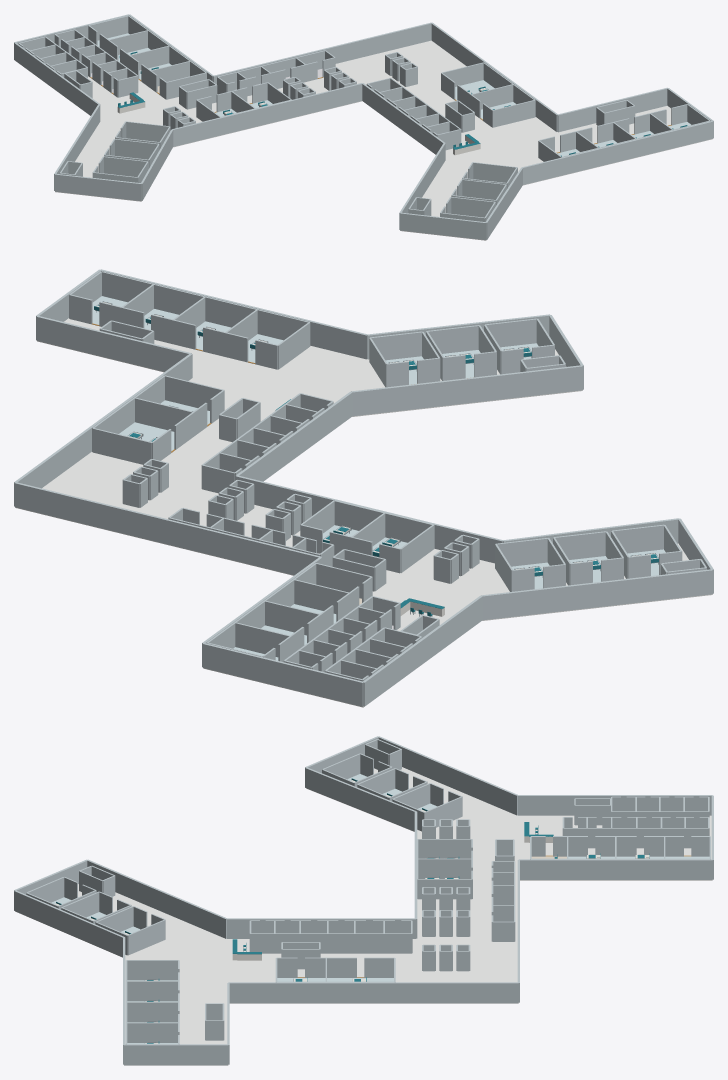
Rendered from dushu-F12.glb.
3 views of the same model, one above another, from view 1: azimuth 30°, elevation 25°; view 2: azimuth 150°, elevation 25°; view 3: azimuth 270°, elevation 25° (orthographic). The views are drawn at different scales.
Parts seen in each view (by area): view 1: Floor slab, wall-6, wall-11, wall-2, wall-8, wall-13, wall-15, wall-10, wall-4, wall-3, wall-90, wall-9 (+20 smaller); view 2: Floor slab, wall-2, wall-14, wall-9, wall-0, wall-4, wall-15, wall-10, wall-11, wall-3, wall-6, wall-84 (+26 smaller); view 3: Floor slab, wall-3, wall-1, wall-14, wall-9, wall-12, wall-7, wall-5, wall-15, wall-10, wall-77, wall-79 (+20 smaller).
Boxes of the visible parts, x1,y1,x2,y2 form: Floor slab: (55,40,712,240); wall-6: (522,121,713,184); wall-11: (172,83,362,146); wall-2: (213,22,431,84); wall-8: (400,212,486,240); wall-13: (55,173,141,200); wall-15: (14,42,99,115); wall-10: (362,83,445,154); wall-4: (557,87,667,132); wall-3: (431,22,557,131); wall-90: (492,100,535,127); wall-9: (399,143,445,229); Floor slab: (15,318,712,707); wall-2: (14,482,321,575); wall-14: (481,569,712,620); wall-9: (351,365,582,416); wall-0: (202,643,363,706); wall-4: (36,315,191,371); wall-15: (363,595,482,706); wall-10: (235,391,352,481); wall-11: (236,475,503,563); wall-3: (14,353,192,506); wall-6: (100,269,367,359); wall-84: (92,428,151,464); Floor slab: (15,767,712,1065); wall-3: (228,982,518,1003); wall-1: (518,859,712,879); wall-14: (378,736,518,815); wall-9: (87,859,227,938); wall-12: (305,767,416,831); wall-7: (14,890,124,957); wall-5: (124,1044,228,1065); wall-15: (518,795,712,815); wall-10: (227,918,415,938); wall-77: (418,858,471,878); wall-79: (418,839,471,858).
Bounding box in the file's own units: 108 × 3.38 × 103.
